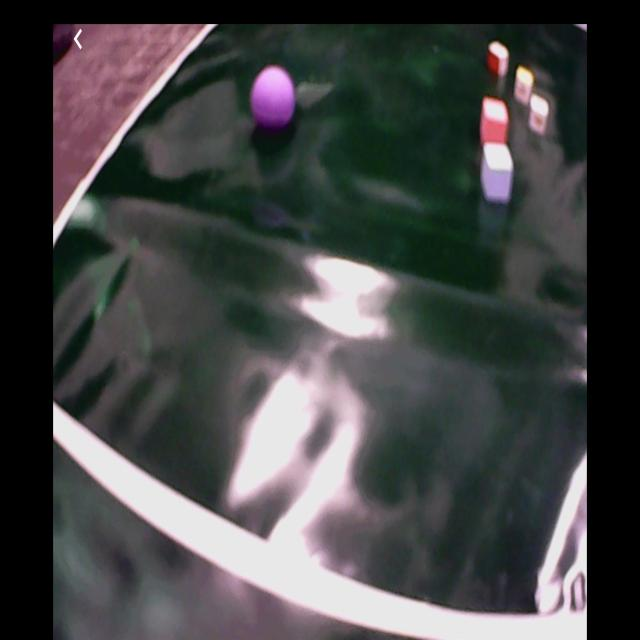ball: (252, 66, 295, 124)
